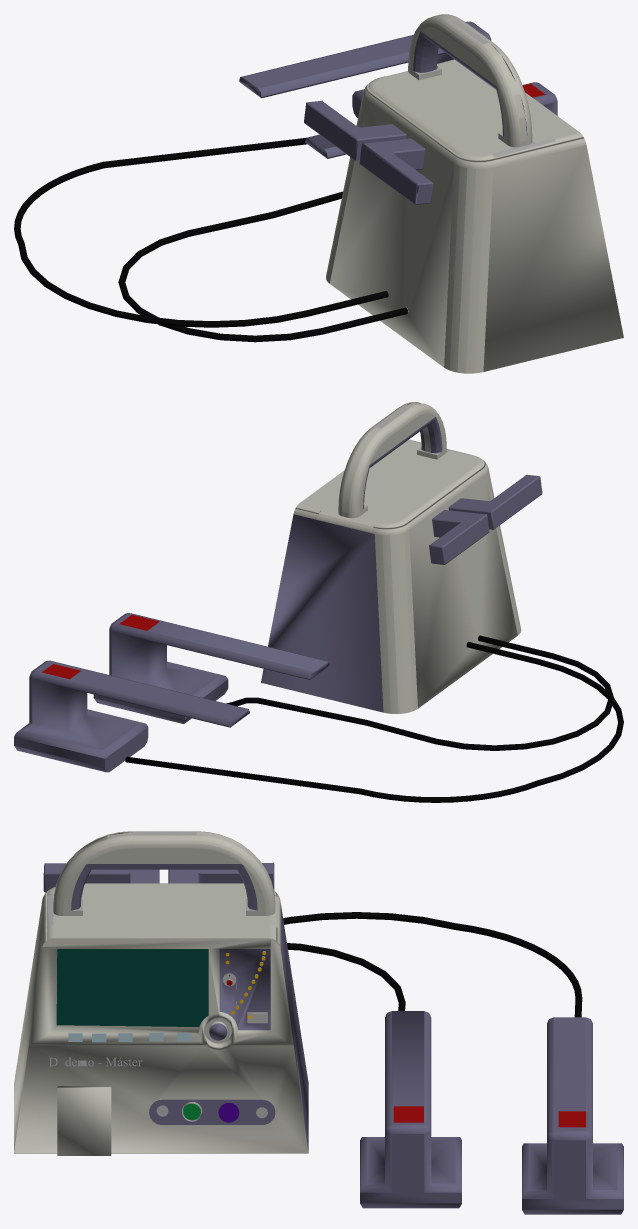
Rendered from desfibrilador.fbx.
3 views of the same model, one above another, from view 1: azimuth 30°, elevation 25°; view 2: azimuth 150°, elevation 25°; view 3: azimuth 270°, elevation 25° (orthographic). The views are drawn at different scales.
Parts seen in each view (by area): view 1: desfibrilador; view 2: desfibrilador; view 3: desfibrilador.
Part boxes in pixels (x1,y1,x2,y2): desfibrilador: (14,14,623,373); desfibrilador: (14,402,623,802); desfibrilador: (14,831,623,1214).
Bounding box in the file's own units: 1.25 × 0.6031 × 1.18.
